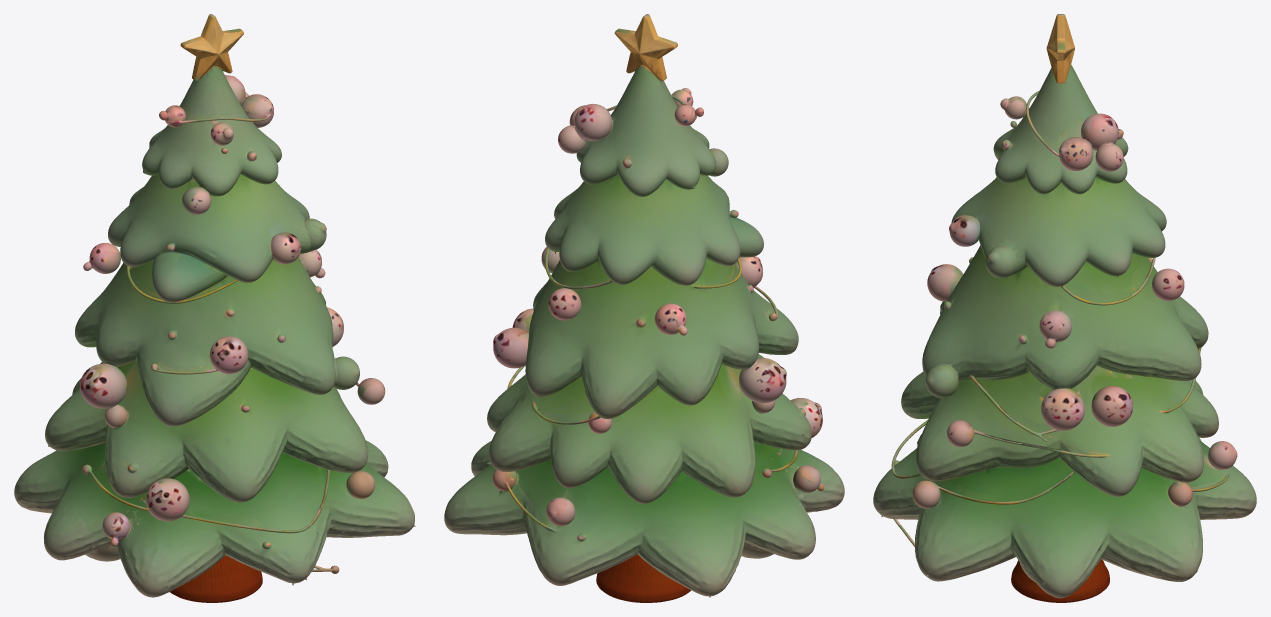
Rendered from do_what_you_want-pine-3182.glb.
3 views of the same model, side by side, from view 1: azimuth 30°, elevation 25°; view 2: azimuth 150°, elevation 25°; view 3: azimuth 270°, elevation 25° (orthographic).
Parts seen in each view (by area): view 1: texture_pbr_v128; view 2: texture_pbr_v128; view 3: texture_pbr_v128.
Part boxes in pixels (x1,y1,x2,y2): texture_pbr_v128: (14,14,415,602); texture_pbr_v128: (444,14,844,602); texture_pbr_v128: (873,14,1256,602).
Size of the model in its own units: 0.7417 by 1.19 by 0.7273.
Materials: 1 (1 with a texture image).
